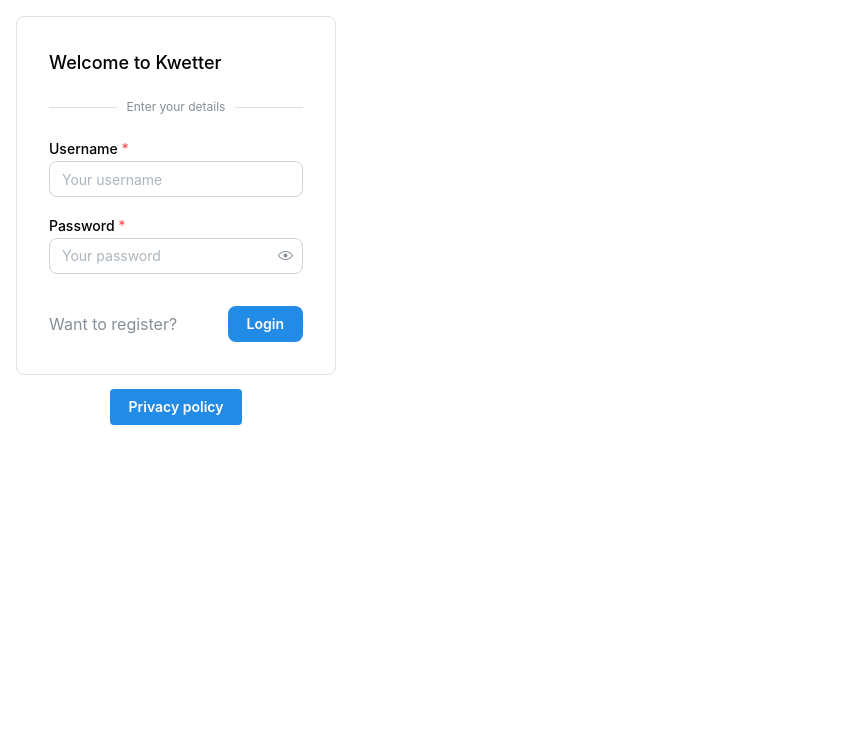
Homepage › should fail login with invalid credentials
The image size is (859, 752).
// Fill in login form with invalid credentials
In the field with placeholder "Your username": (176, 179) x1=49 y1=161 x2=303 y2=197, type "invalidUser"
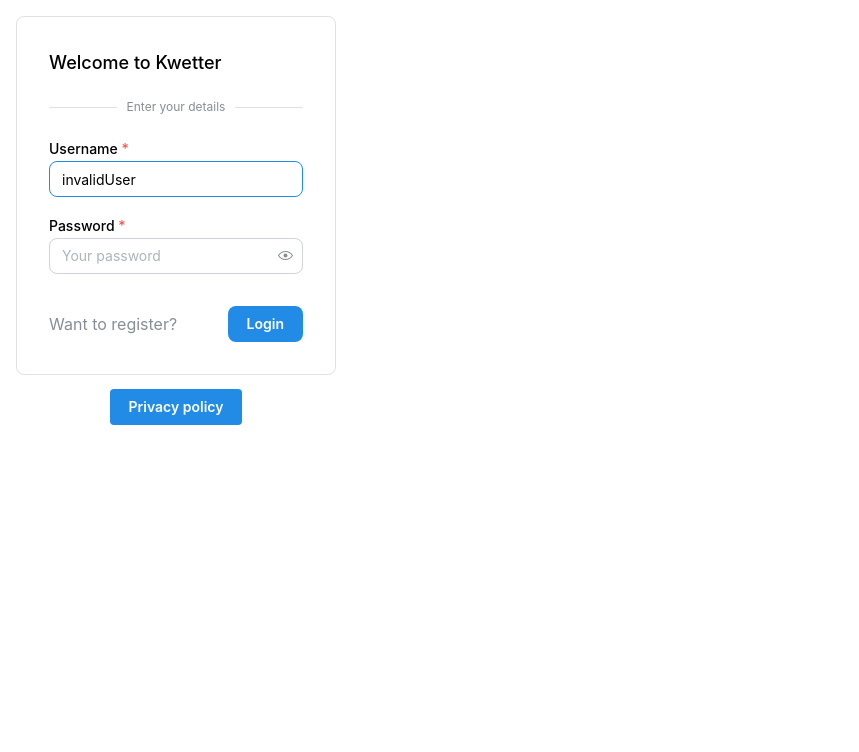
In the password field with placeholder "Your password": (176, 256) x1=50 y1=239 x2=302 y2=273, type "invalidPass"
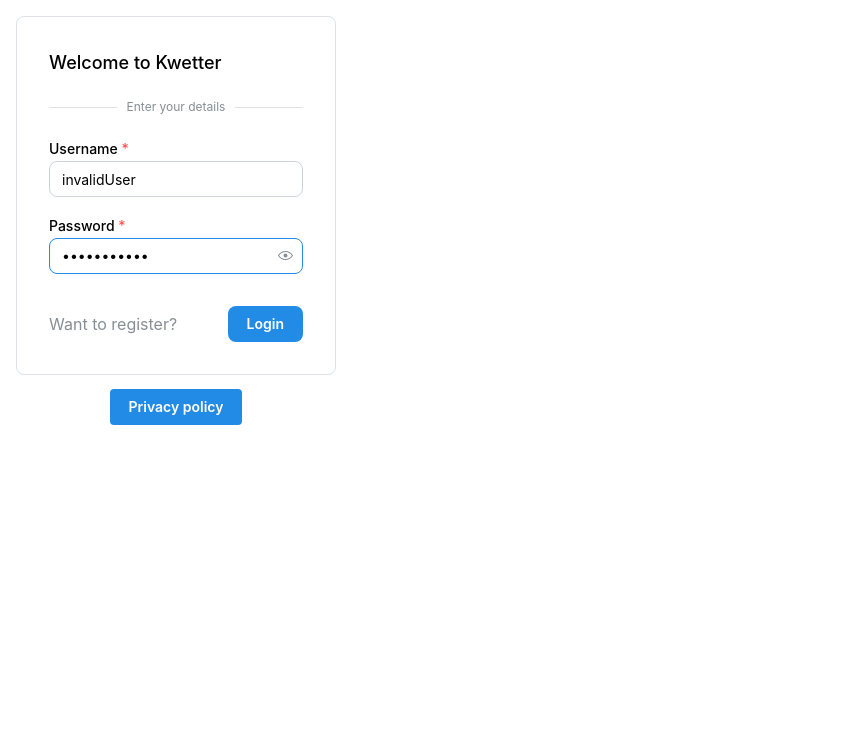
Click the button "Login": (266, 324) x1=228 y1=306 x2=303 y2=342
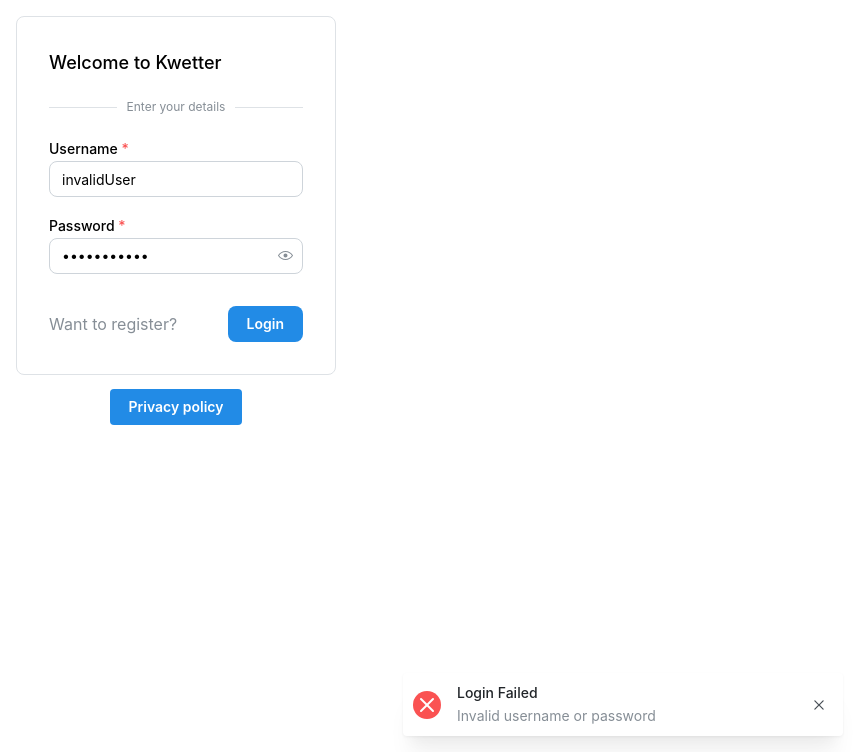
Now the text "Invalid username or password" is shown, box x1=457 y1=707 x2=656 y2=724
